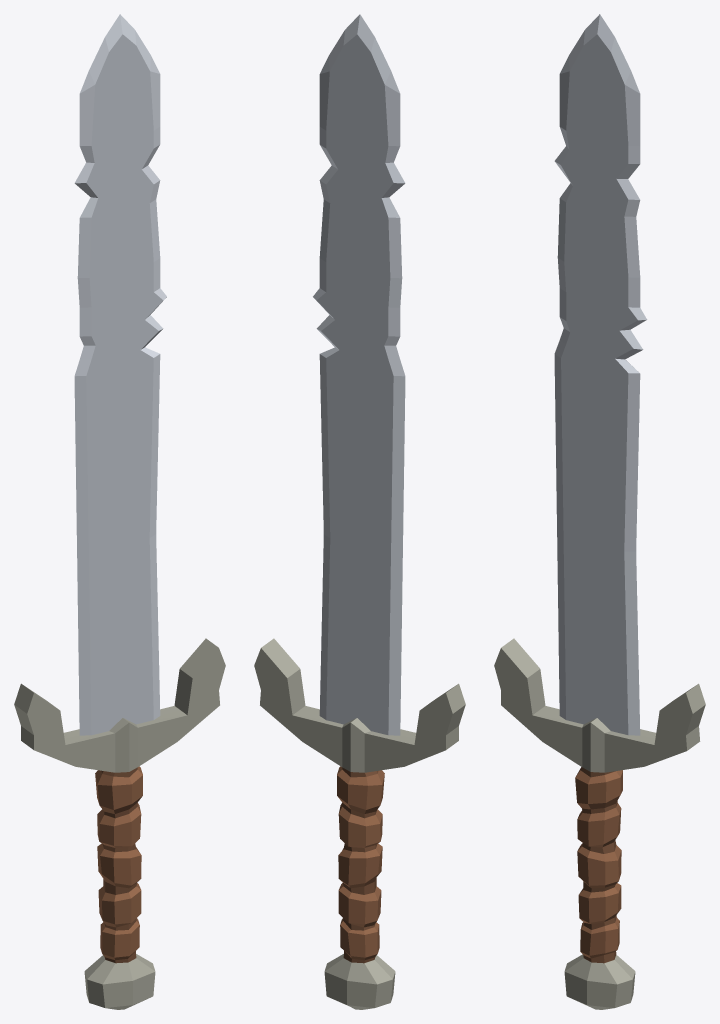
File: Q_Sword-DsZWKVWU.glb
3 renders of one model, left to right at view 1: azimuth 30°, elevation 25°; view 2: azimuth 150°, elevation 25°; view 3: azimuth 330°, elevation 25°, orthographic.
Visible parts, largest first — view 1: Sword; view 2: Sword; view 3: Sword.
Boxes of the visible parts, bbox=[...] form: Sword: bbox=[14, 14, 225, 1009]; Sword: bbox=[254, 14, 465, 1009]; Sword: bbox=[494, 14, 705, 1009].
Size of the model in its own units: 1.14 by 5.45 by 0.2611.
